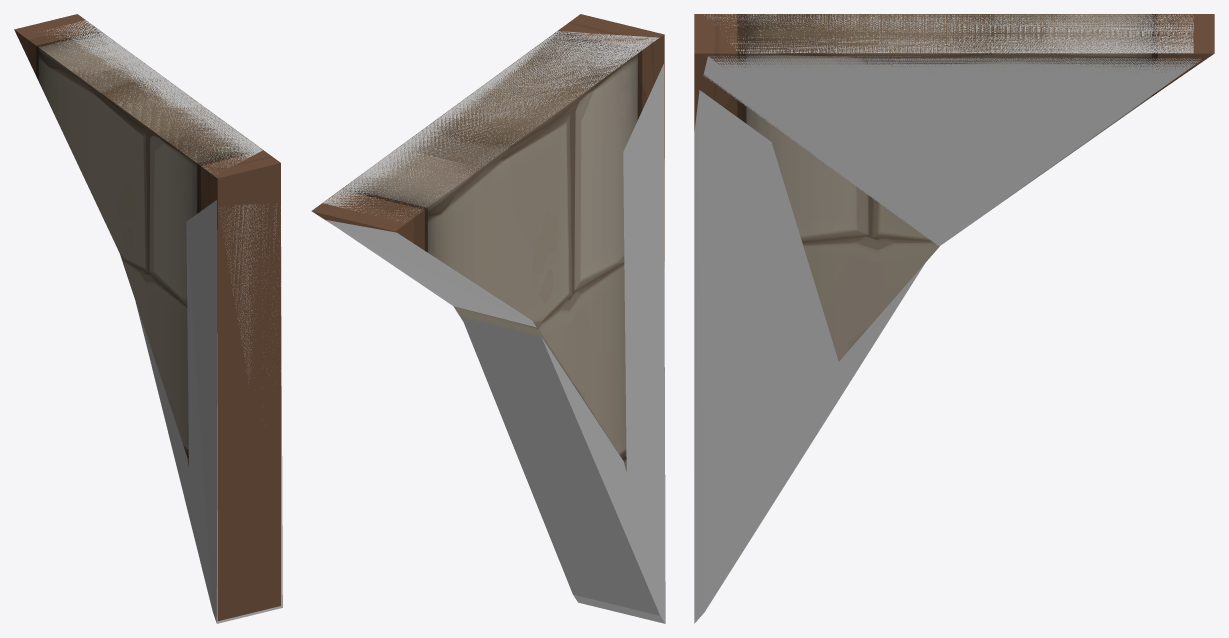
Rendered from SM_Bld_Wall_End_Convex_Small_Inverted_01.fbx.
The picture shows the model from 3 angles, left to right: view 1: azimuth 30°, elevation 25°; view 2: azimuth 150°, elevation 25°; view 3: azimuth 270°, elevation 25°; orthographic projection. The views are drawn at different scales.
Parts seen in each view (by area): view 1: SM_Bld_Wall_End_Convex_Small_Inverted_01, SM_Bld_Wall_End_Convex_Small_Inverted_01_ConvexHulls; view 2: SM_Bld_Wall_End_Convex_Small_Inverted_01, SM_Bld_Wall_End_Convex_Small_Inverted_01_ConvexHulls; view 3: SM_Bld_Wall_End_Convex_Small_Inverted_01_ConvexHulls, SM_Bld_Wall_End_Convex_Small_Inverted_01.
Boxes of the visible parts, box(x1,y1,x2,y2) form: SM_Bld_Wall_End_Convex_Small_Inverted_01: box(14, 14, 280, 620); SM_Bld_Wall_End_Convex_Small_Inverted_01_ConvexHulls: box(39, 20, 282, 623); SM_Bld_Wall_End_Convex_Small_Inverted_01: box(311, 14, 664, 471); SM_Bld_Wall_End_Convex_Small_Inverted_01_ConvexHulls: box(323, 31, 665, 623); SM_Bld_Wall_End_Convex_Small_Inverted_01_ConvexHulls: box(694, 14, 1201, 623); SM_Bld_Wall_End_Convex_Small_Inverted_01: box(694, 14, 1214, 361).
Bounding box in the file's own units: 23.43 × 125 × 151.
Materials: 2 (1 with a texture image).
